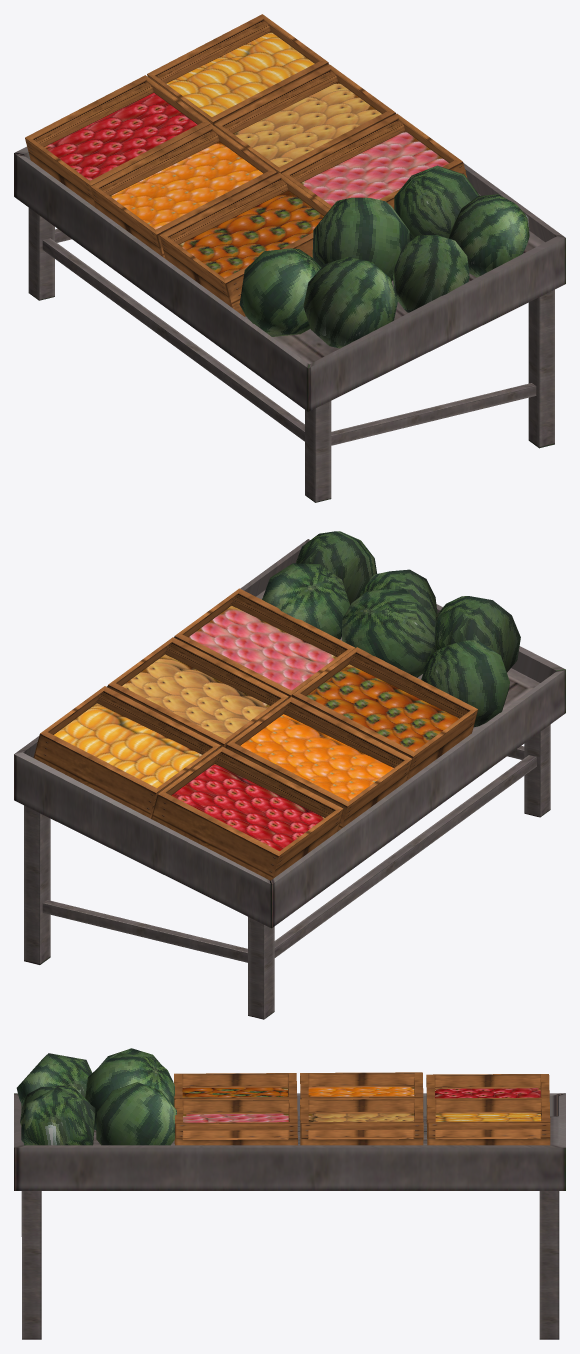
The model's file is goail_gage.FBX.
3 renders of one model, top to bottom at view 1: azimuth 30°, elevation 25°; view 2: azimuth 150°, elevation 25°; view 3: azimuth 270°, elevation 25°, orthographic. The views are drawn at different scales.
Visible parts, largest first — view 1: polySurface25, pCube005, pCube4, pCube006, pCube007, pCube008, pCube009, pSphere003, Object018, Object019, pSphere1, pSphere002 (+1 smaller); view 2: polySurface25, pCube4, pCube007, pCube005, pCube006, pCube008, pCube009, Object018, Object019, Object017, pSphere003, pSphere1 (+1 smaller); view 3: polySurface25, pCube007, pCube008, pCube009, Object017, pSphere1, pCube005, pCube006, pCube4, Object018, pSphere003, pSphere002.
Part boxes in pixels (box(x1,y1,x2,y2)): polySurface25: box(14, 146, 565, 502); pCube005: box(90, 124, 277, 258); pCube4: box(25, 75, 211, 207); pCube006: box(159, 173, 329, 316); pCube007: box(147, 14, 328, 125); pCube008: box(214, 64, 395, 173); pCube009: box(281, 113, 467, 209); pSphere003: box(303, 256, 397, 348); Object018: box(312, 197, 409, 281); Object019: box(239, 248, 321, 336); pSphere1: box(449, 194, 529, 277); pSphere002: box(392, 234, 469, 312); polySurface25: box(14, 539, 565, 1019); pCube4: box(151, 746, 343, 880); pCube007: box(33, 686, 220, 818); pCube005: box(225, 697, 412, 831); pCube006: box(291, 647, 478, 780); pCube008: box(107, 637, 288, 747); pCube009: box(174, 588, 355, 698); Object018: box(341, 588, 436, 677); Object019: box(421, 640, 509, 727); Object017: box(262, 563, 349, 639); pSphere003: box(435, 596, 520, 672); pSphere1: box(296, 531, 377, 605); polySurface25: box(14, 1093, 565, 1339); pCube007: box(427, 1098, 550, 1145); pCube008: box(300, 1098, 423, 1145); pCube009: box(174, 1099, 297, 1145); Object017: box(96, 1082, 176, 1145); pSphere1: box(24, 1087, 95, 1145); pCube005: box(300, 1072, 423, 1139); pCube006: box(174, 1073, 297, 1106); pCube4: box(426, 1074, 549, 1138); Object018: box(85, 1053, 174, 1130); pSphere003: box(16, 1053, 92, 1105); pSphere002: box(20, 1085, 90, 1142).
Size of the model in its own units: 14.28 by 12.86 by 28.23.
